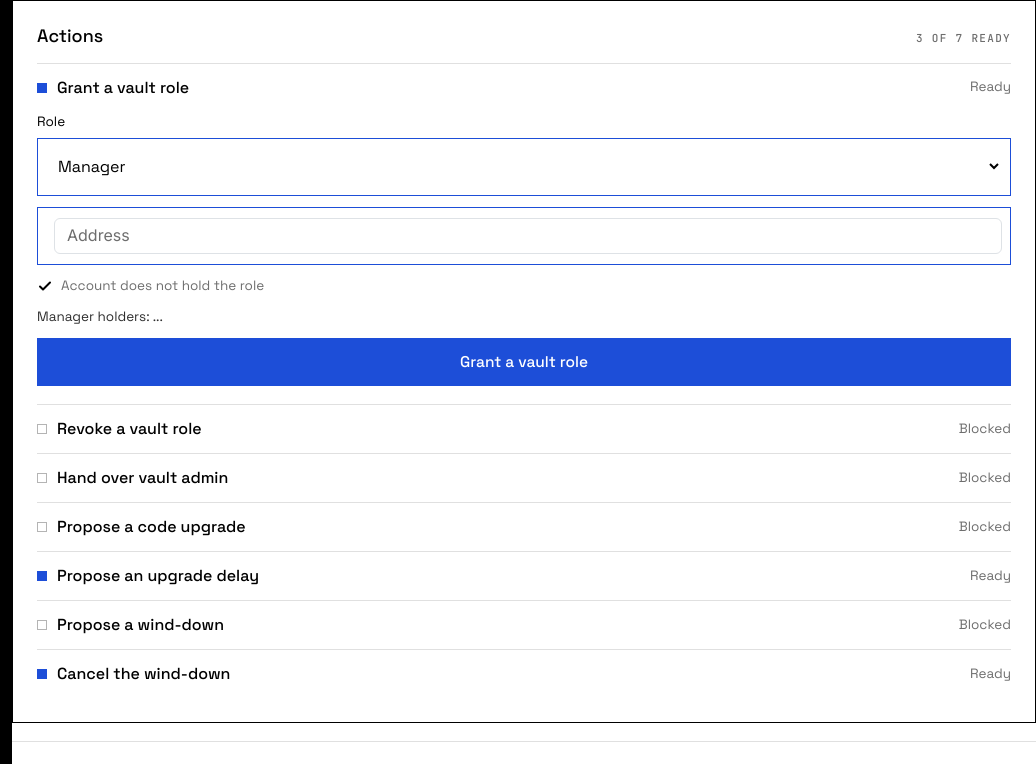
Test: GovernanceSection › asks again for a confirmation when a typed value comes back
Select "Guardian" in the dropdown labelled "Role" at point(528, 167), box [54, 155, 1002, 178]
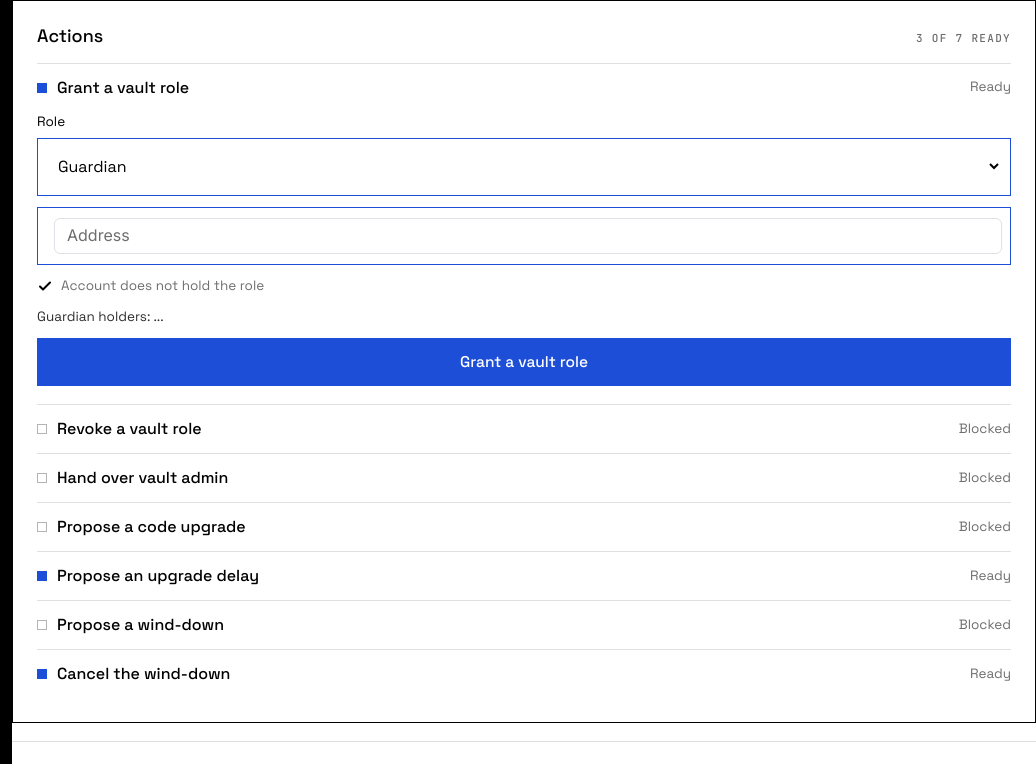
Type "GAAQCAIBAEAQCAIBAEAQCAIBAEAQCAIBAEAQCAIBAEAQCAIBAEAQDZ7H" into the field named "Account" at point(528, 236), box [54, 218, 1002, 254]
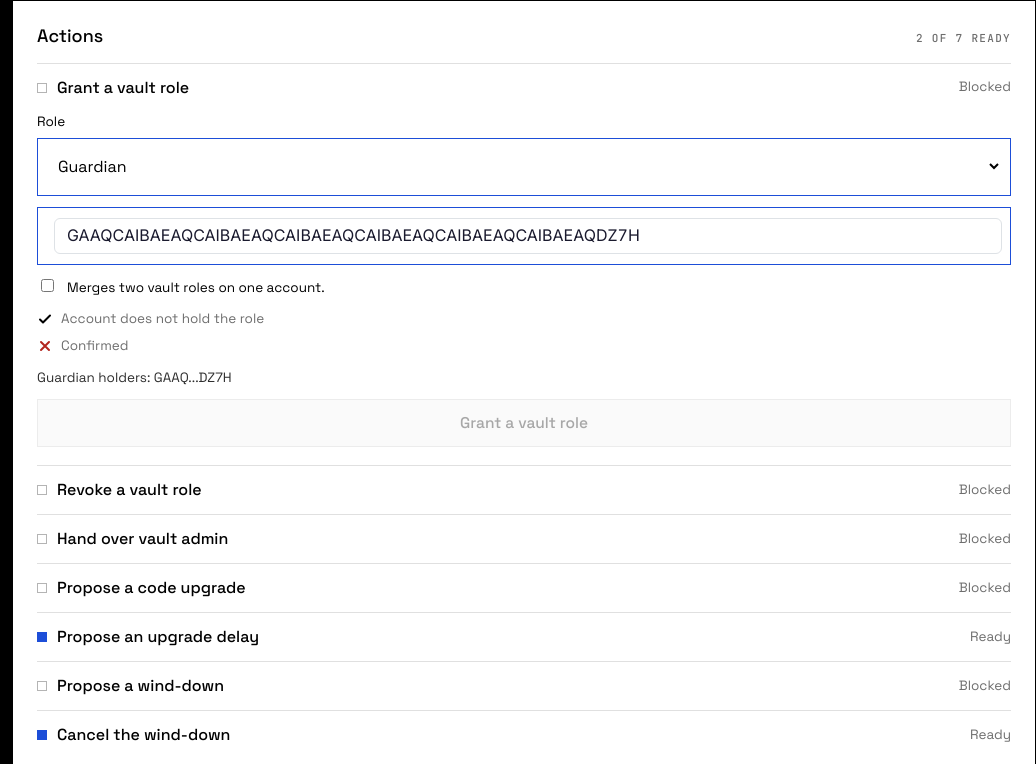
Click the checkbox labelled "Merges two vault roles on one account." at point(48, 285), box [41, 279, 54, 292]
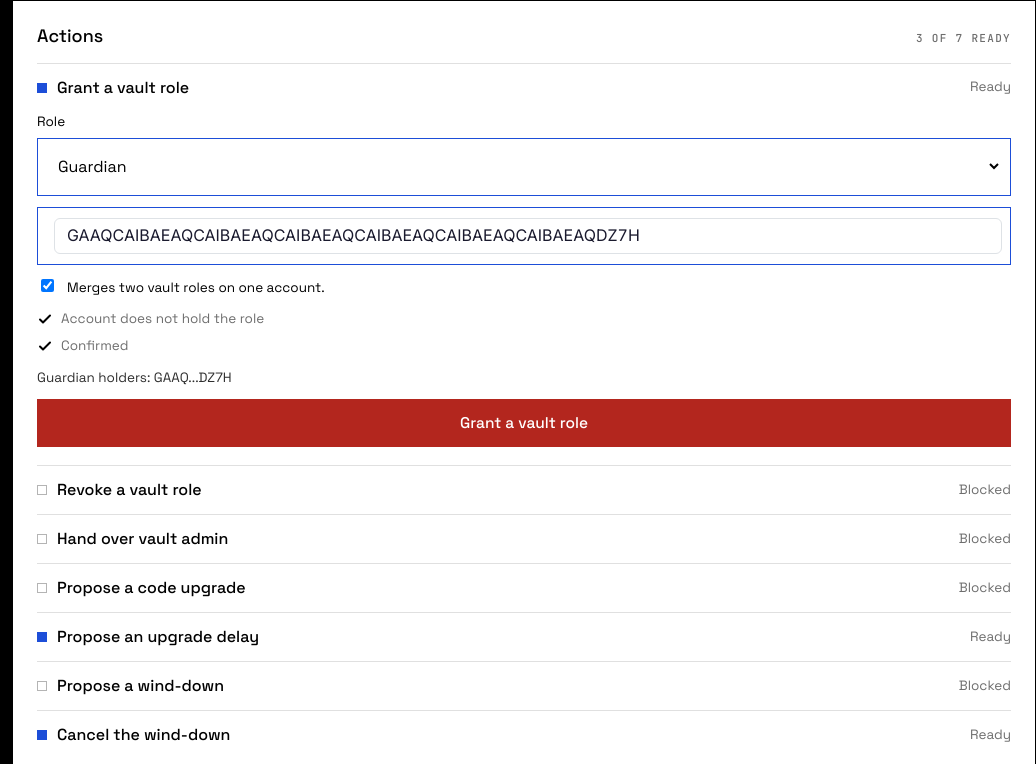
Now the checkbox labelled "Merges two vault roles on one account." is checked, box [41, 279, 54, 292]
Replace the text in the field named "Account" with "GABAEAQCAIBAEAQCAIBAEAQCAIBAEAQCAIBAEAQCAIBAEAQCAIBAEJXA" at point(528, 236), box [54, 218, 1002, 254]
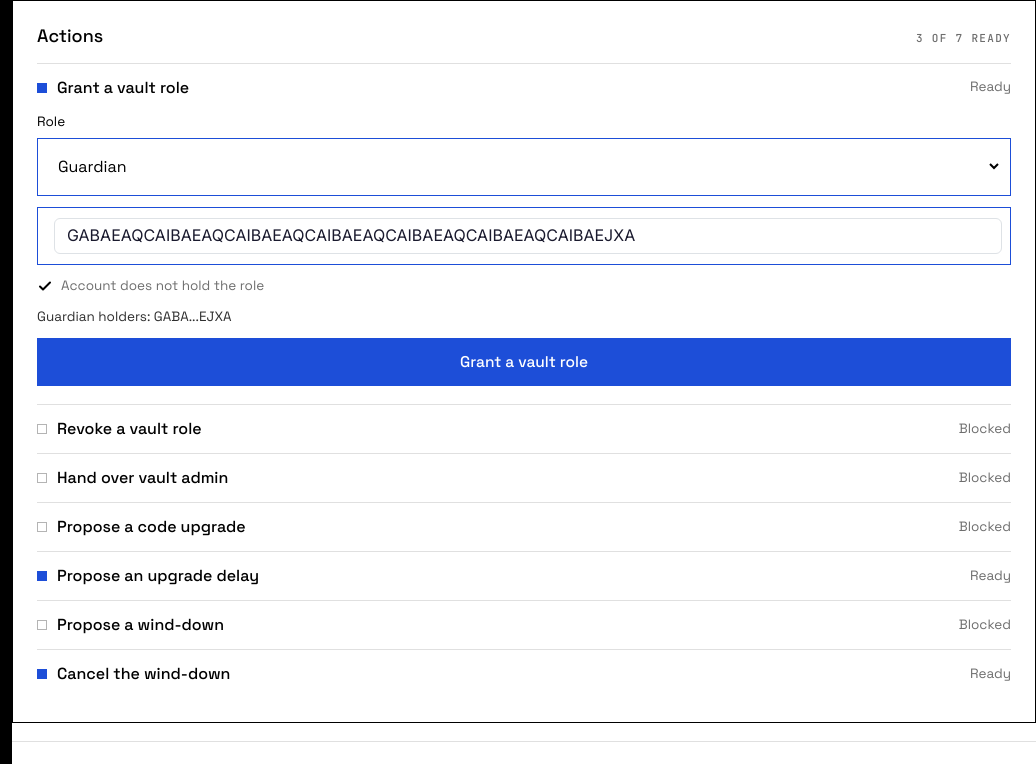
Replace the text in the field named "Account" with "GAAQCAIBAEAQCAIBAEAQCAIBAEAQCAIBAEAQCAIBAEAQCAIBAEAQDZ7H" at point(528, 236), box [54, 218, 1002, 254]
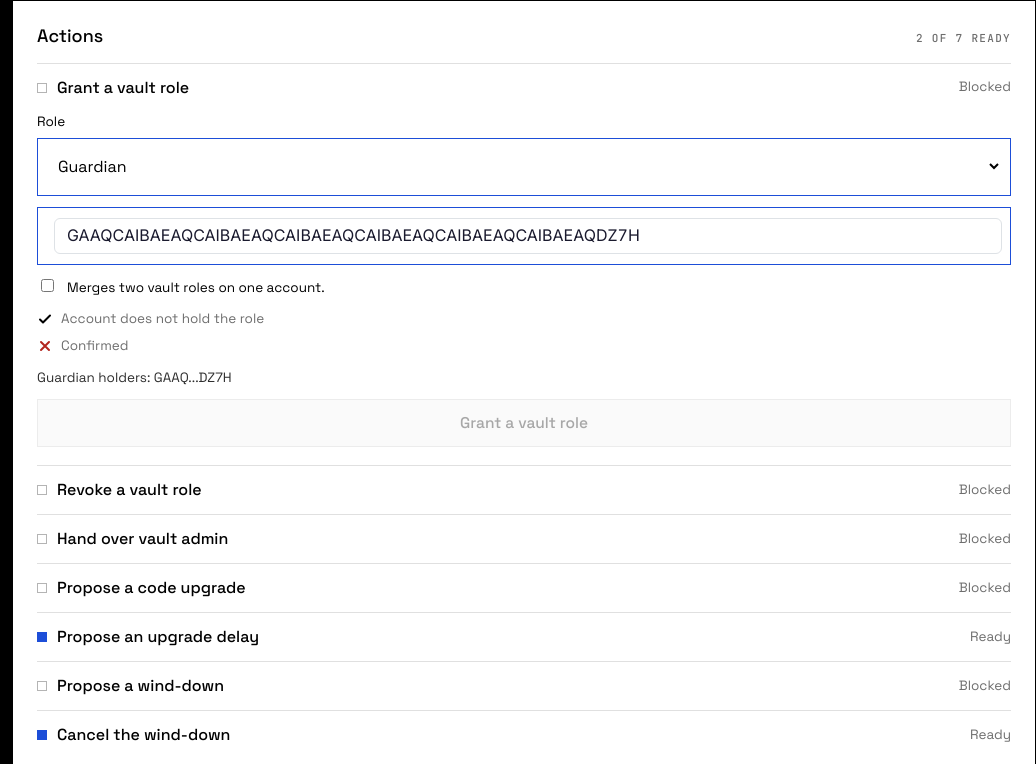
Now the checkbox labelled "Merges two vault roles on one account." is not checked, box [41, 279, 54, 292]
Now the button "Grant a vault role" is disabled, box [37, 399, 1011, 447]
